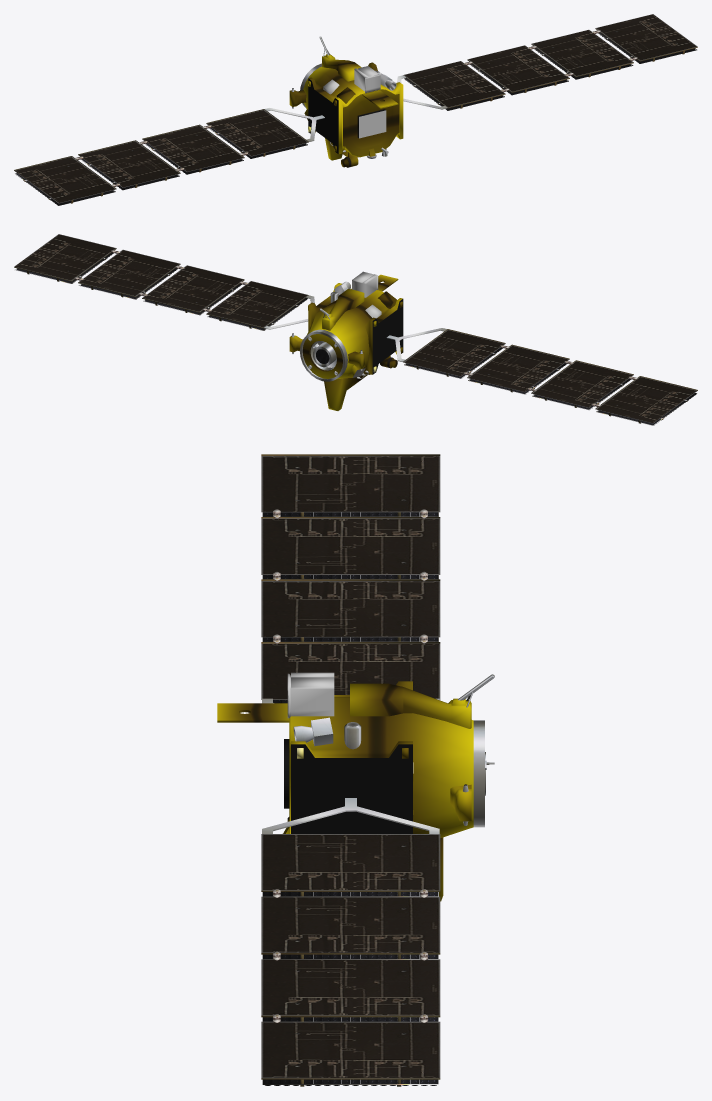
File: DeepSpace.fbx
The picture shows the model from 3 angles, top to bottom: view 1: azimuth 30°, elevation 25°; view 2: azimuth 150°, elevation 25°; view 3: azimuth 270°, elevation 25°; orthographic projection. The views are drawn at different scales.
Visible parts, largest first — view 1: tex_01, foil_gold, shiny_panel, black_krinkle, foil_silver; view 2: tex_01, foil_gold, shiny_panel, black_krinkle, foil_silver; view 3: tex_01, foil_gold, black_krinkle, shiny_panel, foil_silver.
Part boxes in pixels (left/top/right/bottom): tex_01: left=14, top=14, right=697, bottom=205; foil_gold: left=289, top=54, right=403, bottom=167; shiny_panel: left=15, top=32, right=695, bottom=205; black_krinkle: left=308, top=78, right=385, bottom=153; foil_silver: left=323, top=66, right=386, bottom=152; tex_01: left=14, top=234, right=697, bottom=425; foil_gold: left=289, top=274, right=402, bottom=410; shiny_panel: left=16, top=252, right=696, bottom=425; black_krinkle: left=372, top=299, right=403, bottom=374; foil_silver: left=352, top=271, right=381, bottom=378; tex_01: left=261, top=454, right=494, bottom=1086; foil_gold: left=217, top=681, right=473, bottom=901; black_krinkle: left=284, top=739, right=412, bottom=833; shiny_panel: left=263, top=512, right=438, bottom=1085; foil_silver: left=287, top=672, right=334, bottom=718.
Bounding box in the file's own units: 11.8 × 1.96 × 2.22.
